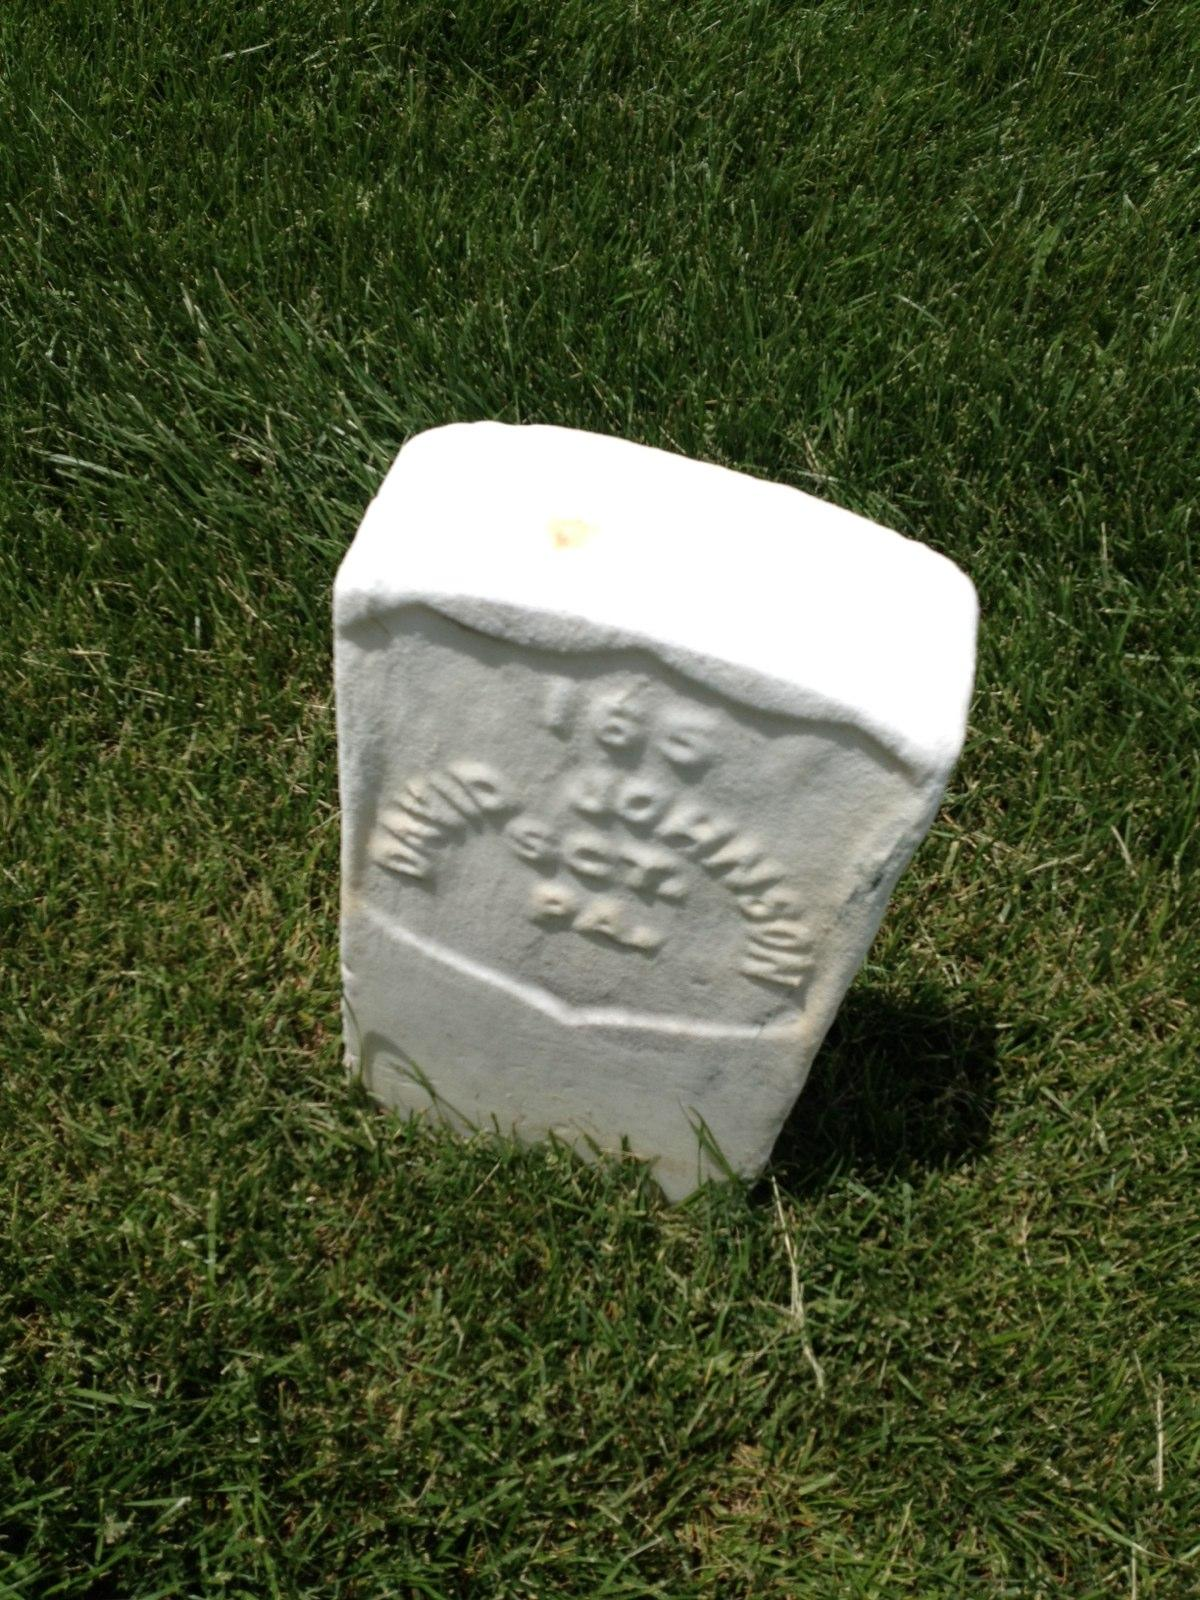upright: (332, 416, 976, 1256)
